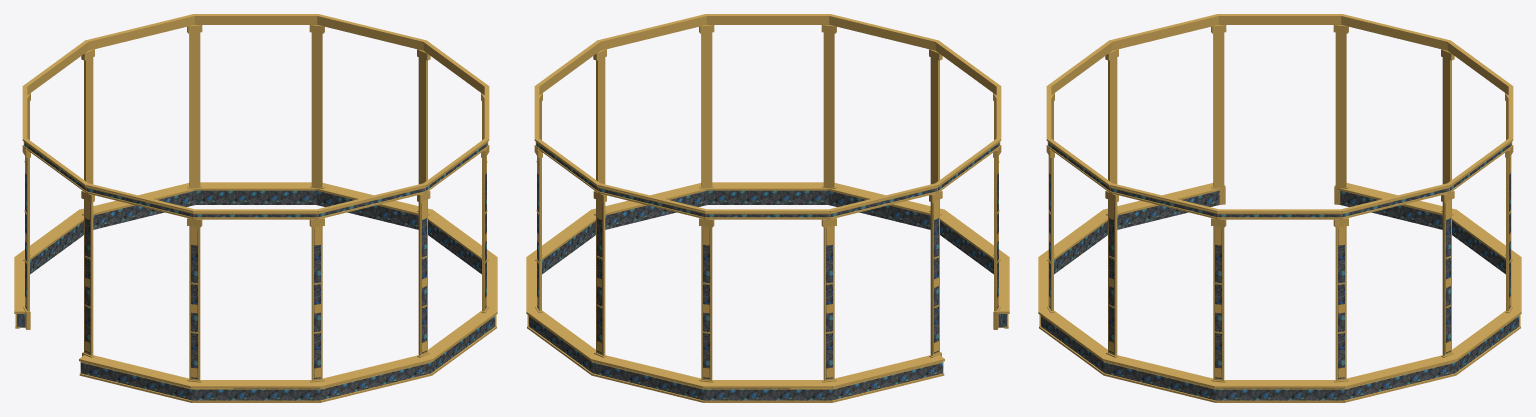
Rendered from trim-library.glb.
3 renders of one model, left to right at view 1: azimuth 30°, elevation 25°; view 2: azimuth 150°, elevation 25°; view 3: azimuth 270°, elevation 25°, orthographic.
Parts seen in each view (by area): view 1: trim-gilt, trim-labradorite, trim-ornament; view 2: trim-gilt, trim-labradorite, trim-ornament; view 3: trim-gilt, trim-labradorite, trim-ornament.
Boxes of the visible parts, x1,y1,x2,y2 form: trim-gilt: (14,14,497,402); trim-labradorite: (16,143,495,400); trim-ornament: (25,156,486,377); trim-gilt: (526,14,1009,402); trim-labradorite: (528,143,1007,400); trim-ornament: (537,156,998,377); trim-gilt: (1038,14,1521,402); trim-labradorite: (1040,143,1519,400); trim-ornament: (1049,156,1510,377).
Bounding box in the file's own units: 14.69 × 6.32 × 14.69.
3 materials, 1 textured.
